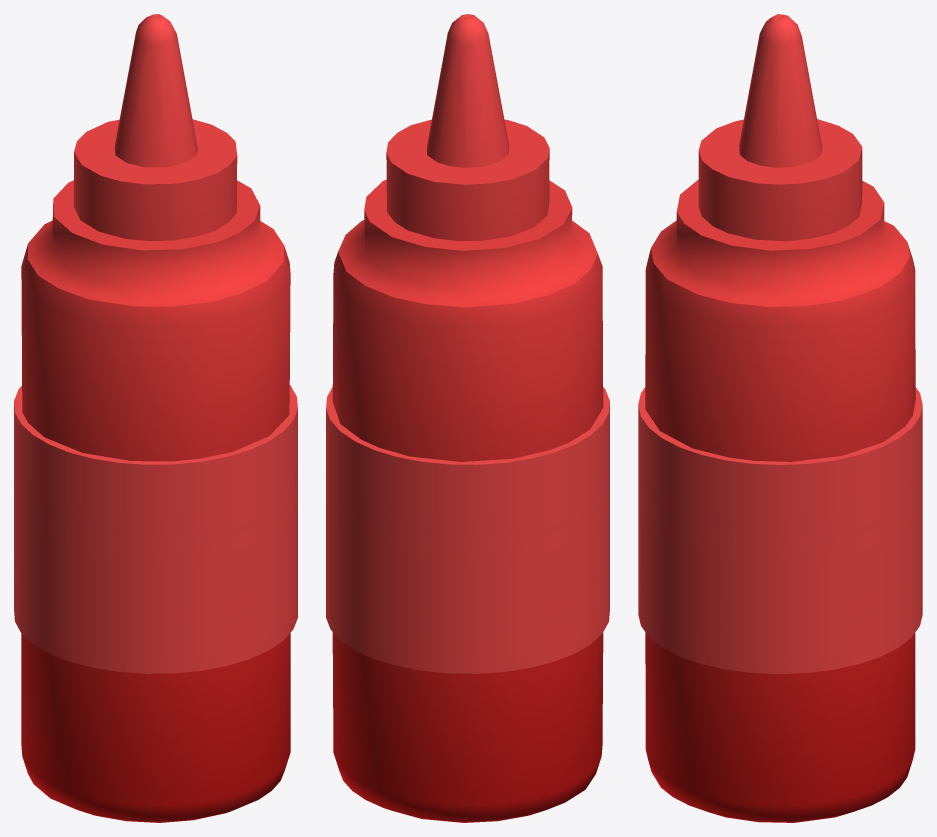
The model's file is dressing_ketchup.fbx.
The picture shows the model from 3 angles, left to right: view 1: azimuth 30°, elevation 25°; view 2: azimuth 150°, elevation 25°; view 3: azimuth 270°, elevation 25°; orthographic projection.
Parts seen in each view (by area): view 1: dressing_ketchup; view 2: dressing_ketchup; view 3: dressing_ketchup.
Boxes of the visible parts, left/top/right/bottom form: dressing_ketchup: left=14, top=14, right=297, bottom=822; dressing_ketchup: left=326, top=14, right=609, bottom=822; dressing_ketchup: left=638, top=14, right=922, bottom=822.
Size of the model in its own units: 42.68 by 126 by 42.68.
